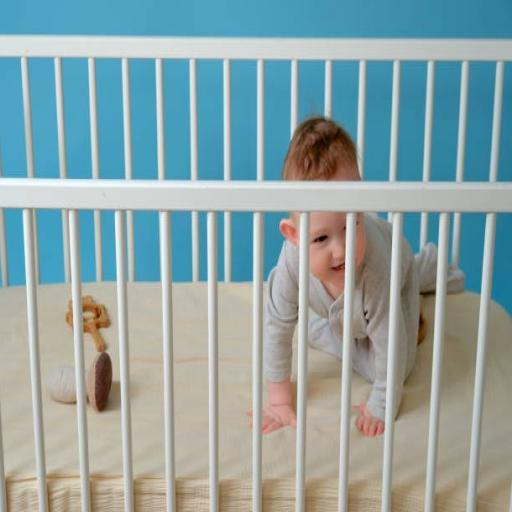baby: (353, 214, 391, 436)
crib: (0, 37, 511, 510)
